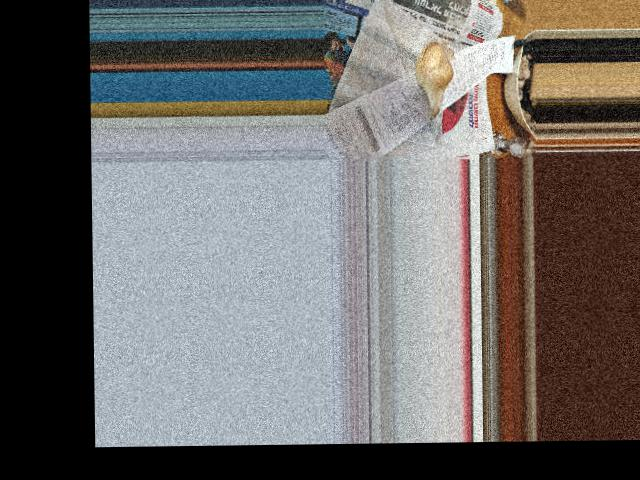onion: (416, 43, 450, 98)
